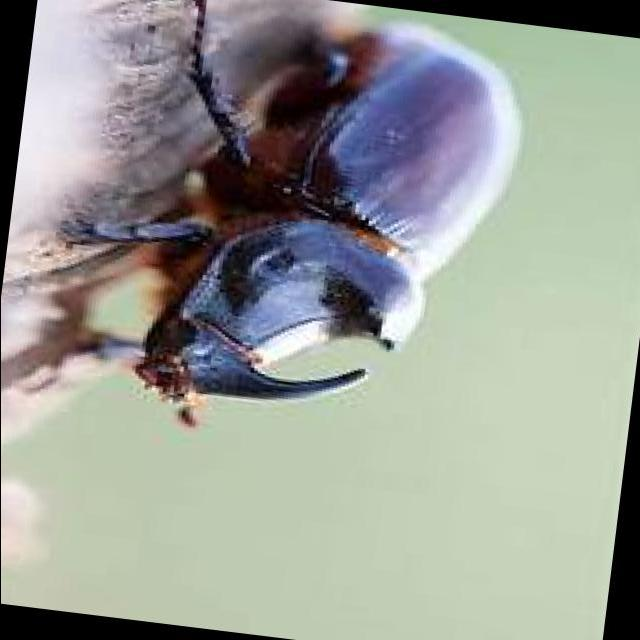Rhino-beetle: (80, 29, 526, 428)
